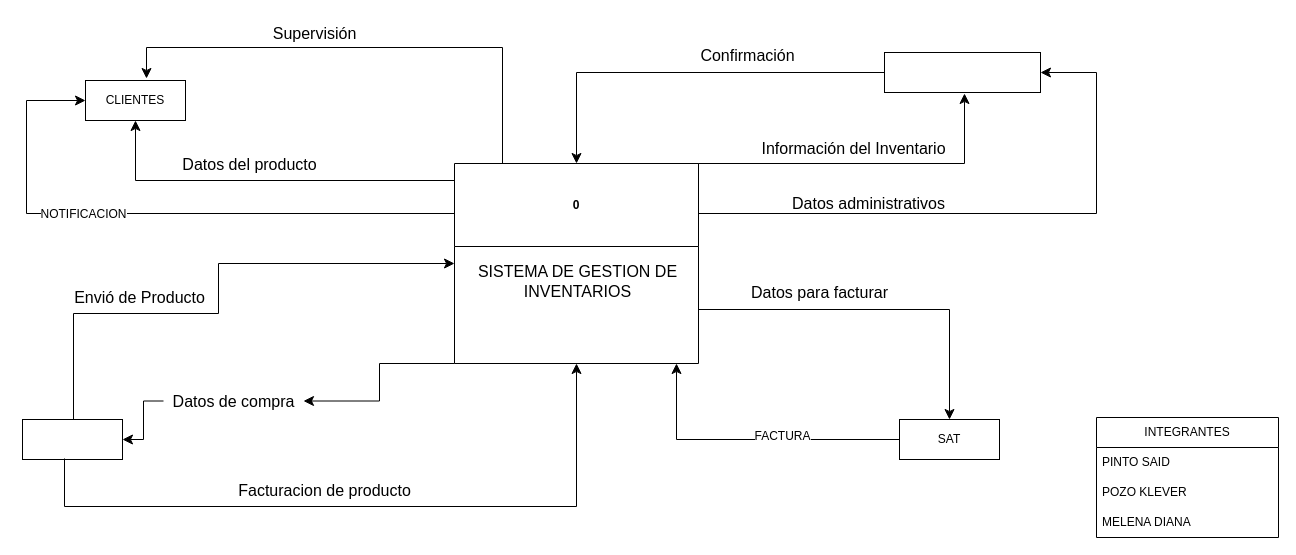
This 1296x555 diagram has some shape labels left out. Here are the shapes that lost their labels. From the top down, the centre of each, then its label:
the point at 962,72: GERENTE
the point at 72,439: PROVEEDORES
